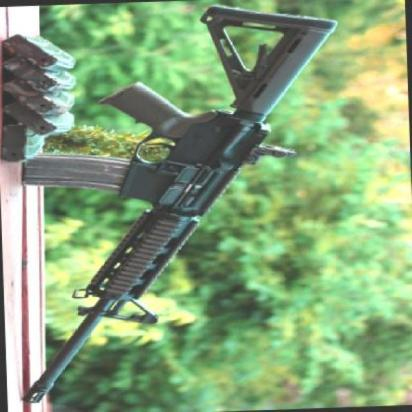Gun: (2, 1, 368, 403)
